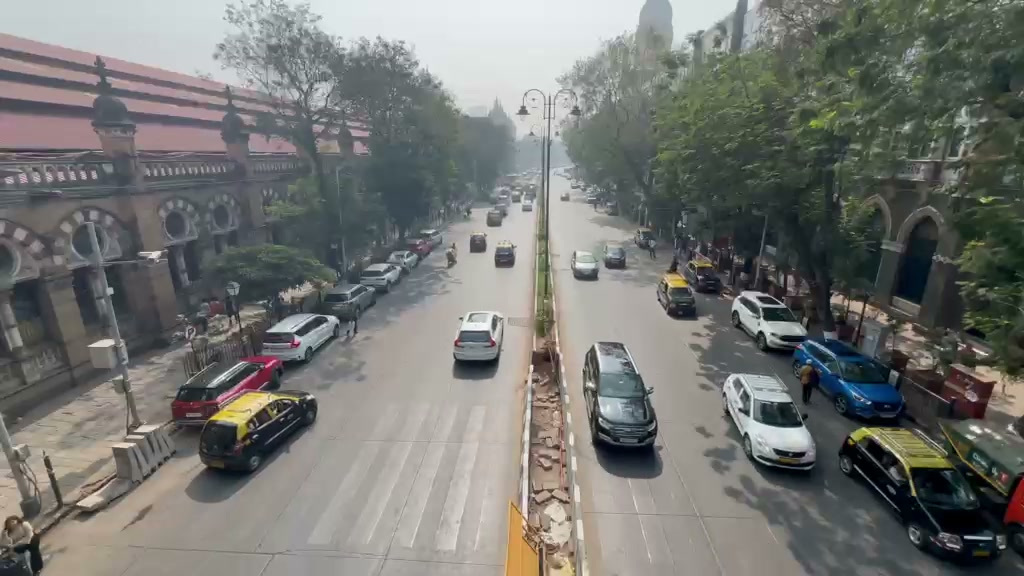car: (836, 424, 1007, 565), (197, 389, 318, 473), (791, 336, 906, 423), (722, 372, 818, 472), (583, 340, 658, 450), (171, 356, 282, 425), (938, 416, 1024, 503), (730, 291, 809, 353), (261, 311, 340, 367), (308, 287, 372, 334), (452, 310, 506, 364), (316, 283, 377, 319), (655, 271, 698, 319), (359, 262, 404, 293), (572, 251, 599, 281), (406, 233, 437, 257), (387, 249, 420, 271), (494, 240, 517, 268), (695, 271, 723, 293), (603, 244, 626, 270), (486, 208, 507, 226), (469, 233, 487, 253)
pedestrian: (1, 514, 45, 575), (800, 362, 819, 405)
